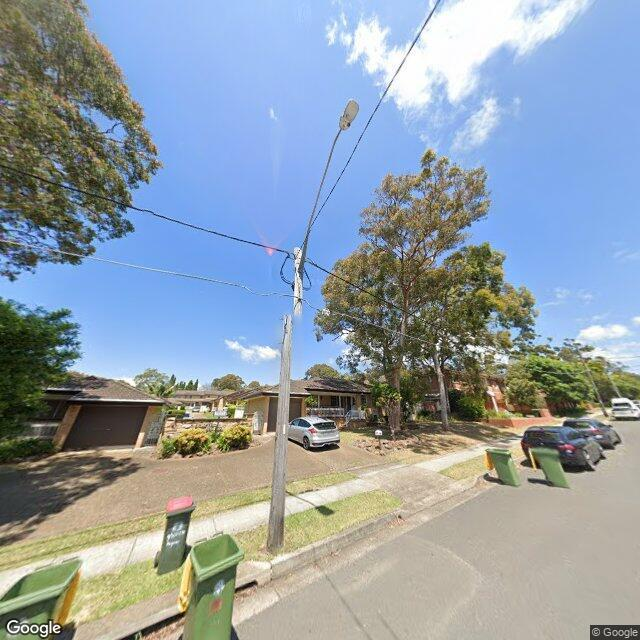streetlight: (298, 99, 360, 273)
timber-pole: (266, 246, 304, 551), (578, 352, 609, 416)
